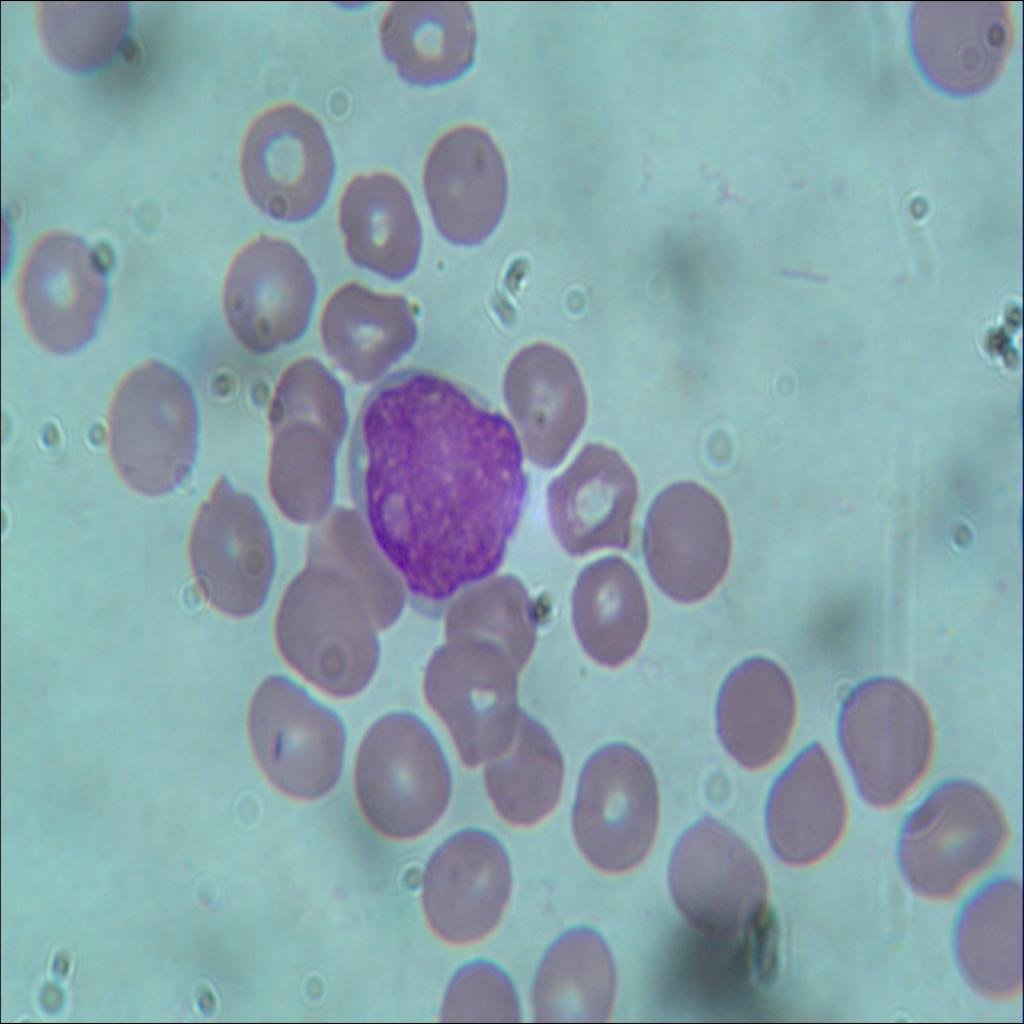Eritrosit: (98, 343, 201, 511), (268, 558, 382, 699), (353, 699, 459, 848), (234, 668, 350, 804), (893, 775, 1008, 909), (226, 98, 338, 231), (186, 464, 281, 618), (633, 477, 736, 610), (16, 221, 106, 368), (416, 122, 511, 261), (838, 675, 932, 815), (666, 805, 763, 939), (704, 641, 806, 767), (416, 814, 513, 944), (568, 740, 662, 872), (488, 331, 586, 452), (308, 504, 406, 625), (326, 166, 430, 278), (764, 744, 850, 874), (546, 442, 638, 559), (483, 710, 571, 831), (429, 638, 510, 761), (564, 558, 650, 672), (259, 345, 348, 450), (379, 0, 481, 91), (531, 915, 616, 1023), (218, 242, 308, 344), (449, 569, 538, 672), (259, 423, 348, 525), (950, 877, 1024, 997), (323, 278, 413, 376)
Limfoblast: (344, 352, 534, 594)
